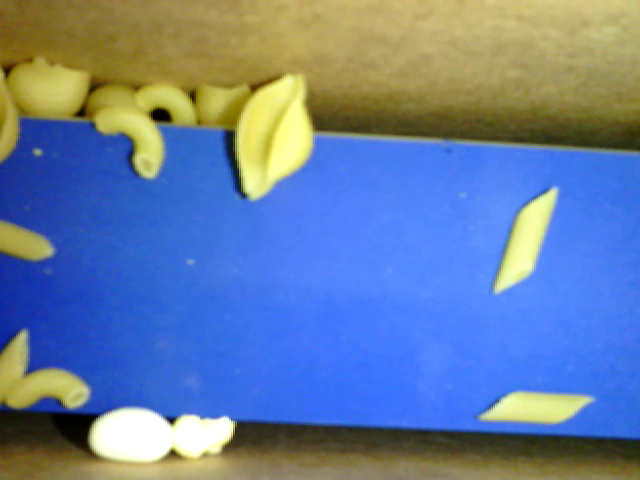elbow: (92, 107, 164, 180), (5, 369, 89, 409), (135, 82, 196, 124)
penne: (493, 186, 557, 297), (479, 390, 595, 423), (1, 217, 55, 261), (1, 325, 30, 400)
shell: (231, 71, 318, 201), (4, 56, 90, 121)
